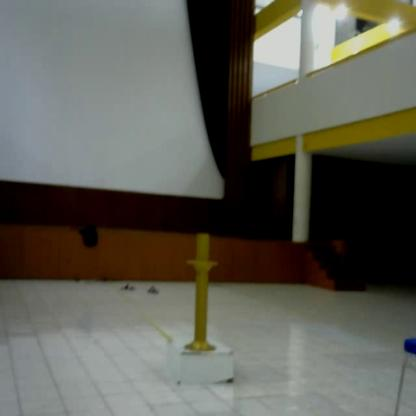pole: (182, 236, 225, 358)
